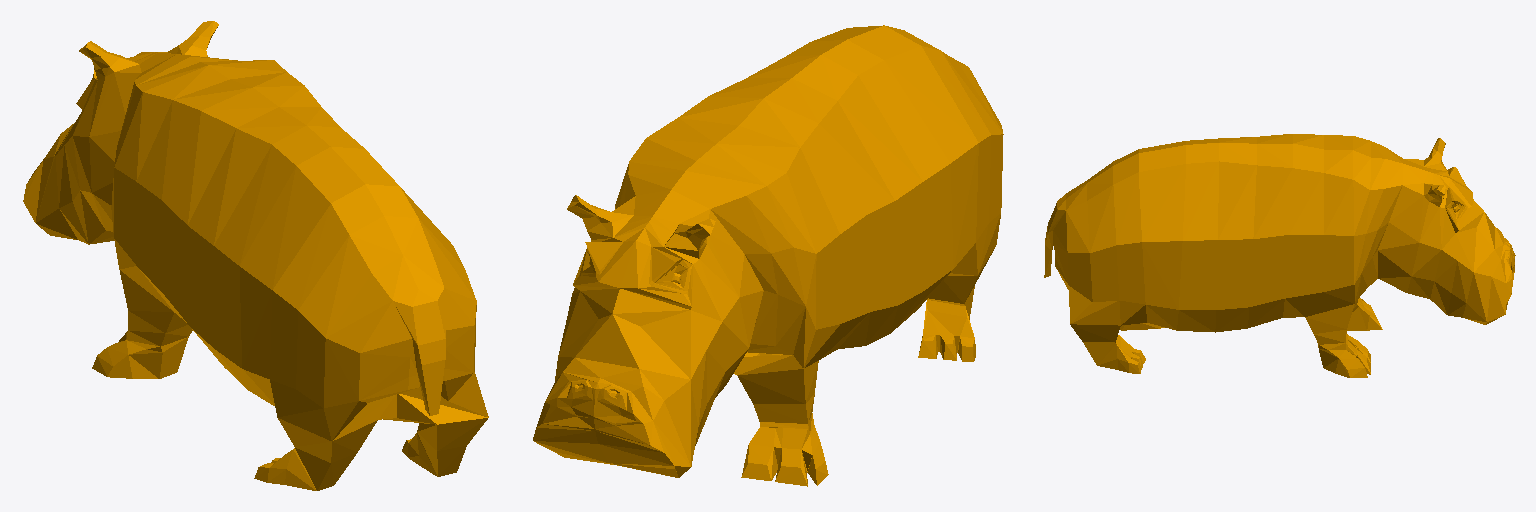
URDF robot description (mesh_object):
<?xml version="1.0" ?>
<robot name="mesh_object">
  <link name="base">
    <visual>
      <geometry>
        <mesh filename="hippopotamus_2_v000.obj" scale="1 1 1"/>
      </geometry>
    </visual>
    <collision>
      <geometry>
        <mesh filename="hippopotamus_2_v000.obj" scale="1 1 1"/>
      </geometry>
    </collision>
    <inertial>
      <origin xyz="-0.000517 -0.013072 0.024184" rpy="0 0 0"/>
      <mass value="0.500000"/>
      <inertia ixx="0.01" iyy="0.01" izz="0.01" ixy="0" ixz="0" iyz="0"/>
    </inertial>
  </link>
</robot>

--- Render facts (derived) ---
Views: 3 orthographic renders of the robot side by side, from view 1: azimuth 30°, elevation 25°; view 2: azimuth 150°, elevation 25°; view 3: azimuth 270°, elevation 25°.
Model mesh_object with 1 links and 0 joints (none), rooted at base, posed all joints at 0.
Links seen in each view (by area): view 1: base; view 2: base; view 3: base.
Link boxes in pixels (<box>): base: <box>23,21,488,490</box>; base: <box>533,25,1003,486</box>; base: <box>1044,134,1515,377</box>.
Bounding box of the posed robot: 0.0346 × 0.1016 × 0.0484 m (x, y, z).
1 mesh visuals loaded from 1 distinct referenced files (1 OBJ).
